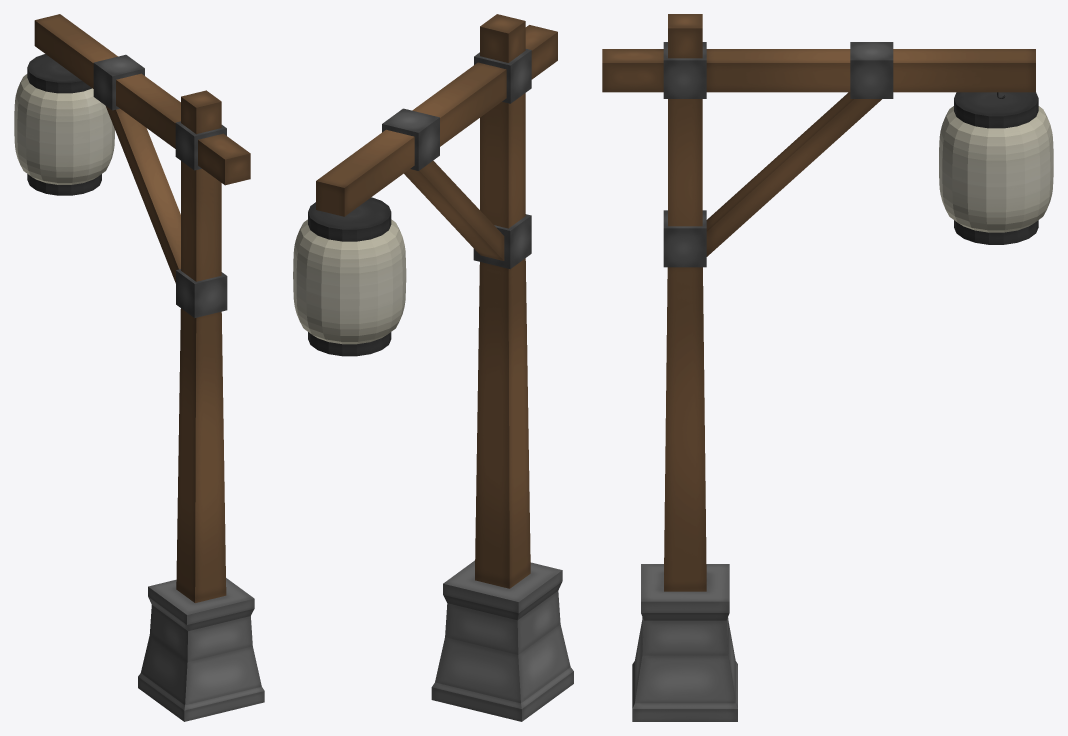
Rendered from lantern_pole_with_a_paper_lantern-980f1887.glb.
The picture shows the model from 3 angles, left to right: view 1: azimuth 30°, elevation 25°; view 2: azimuth 150°, elevation 25°; view 3: azimuth 270°, elevation 25°; orthographic projection. The views are drawn at different scales.
Visible parts, largest first — view 1: lantern pole, lantern paper; view 2: lantern pole, lantern paper; view 3: lantern pole, lantern paper.
Part boxes in pixels (bbox=[...]): lantern pole: bbox=[34, 14, 264, 721]; lantern paper: bbox=[14, 54, 114, 195]; lantern pole: bbox=[316, 14, 573, 721]; lantern paper: bbox=[293, 197, 406, 356]; lantern pole: bbox=[602, 14, 1035, 721]; lantern paper: bbox=[939, 92, 1053, 244].
Bounding box in the file's own units: 1.58 × 10.42 × 6.28.
Materials: 2 (2 with a texture image).
